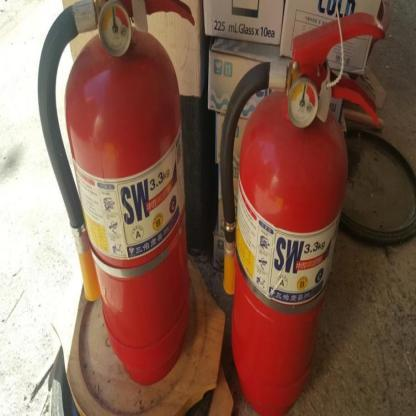Fire Extinguisher: (214, 3, 416, 416), (33, 8, 201, 376)
